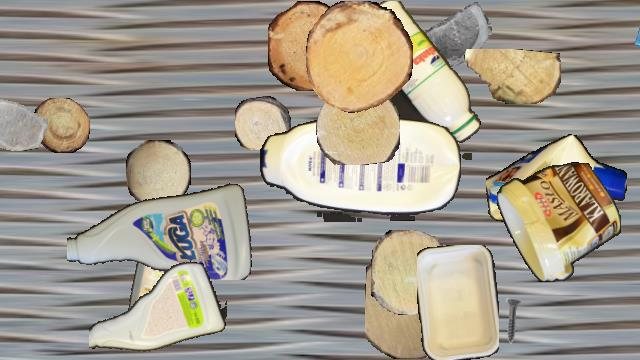glass: (420, 1, 492, 73), (0, 92, 47, 150), (633, 1, 640, 65)
metal: (430, 247, 490, 307), (488, 297, 536, 345)
plastic: (260, 118, 460, 222), (352, 1, 482, 159), (67, 176, 255, 280), (496, 162, 620, 282), (89, 257, 227, 359), (486, 133, 626, 229), (417, 245, 499, 359), (123, 217, 189, 339)
wood: (306, 1, 412, 113), (365, 247, 453, 359), (268, 1, 350, 91), (371, 230, 451, 314), (316, 84, 400, 164), (463, 49, 561, 103), (126, 140, 190, 204), (33, 98, 89, 152), (235, 96, 291, 150)
